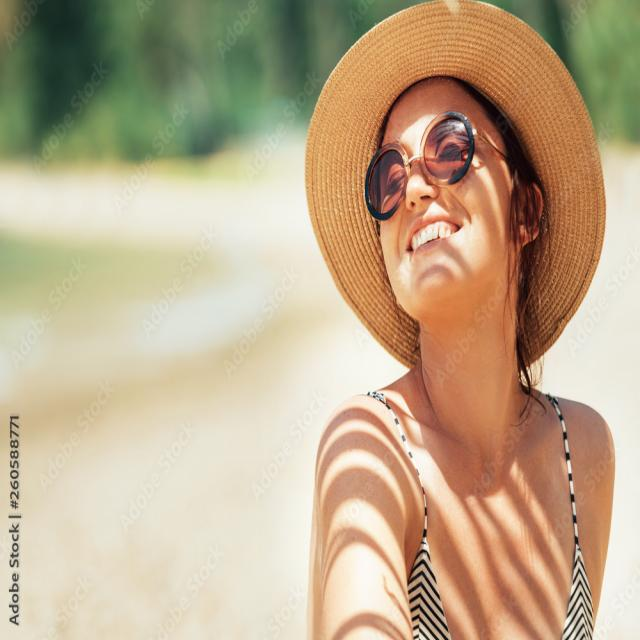hat: (309, 21, 612, 342)
